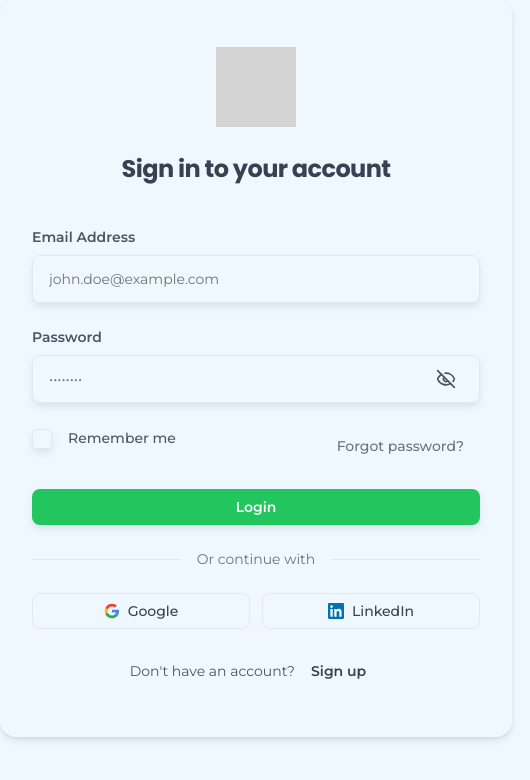
LoginForm › shows validation error for invalid email
Type "not-an-email" into the field labelled "Email Address" at (256,279), box [32, 255, 480, 303]
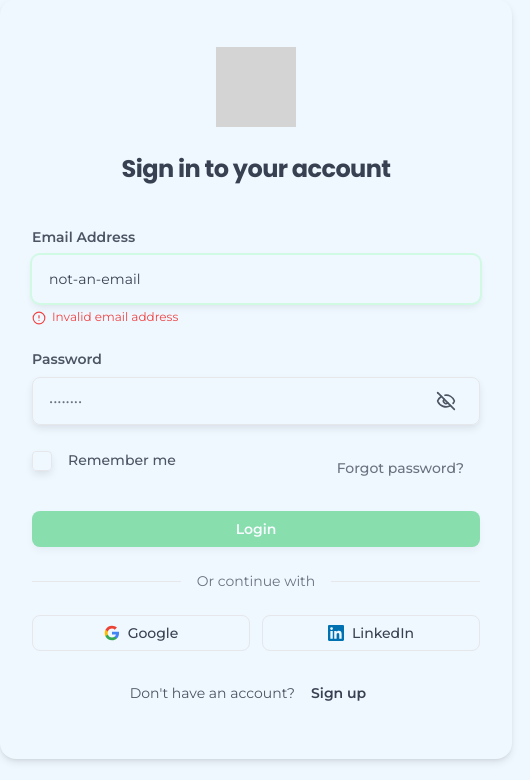
expect the text "Invalid email address" is shown: met, box [52, 309, 178, 325]
